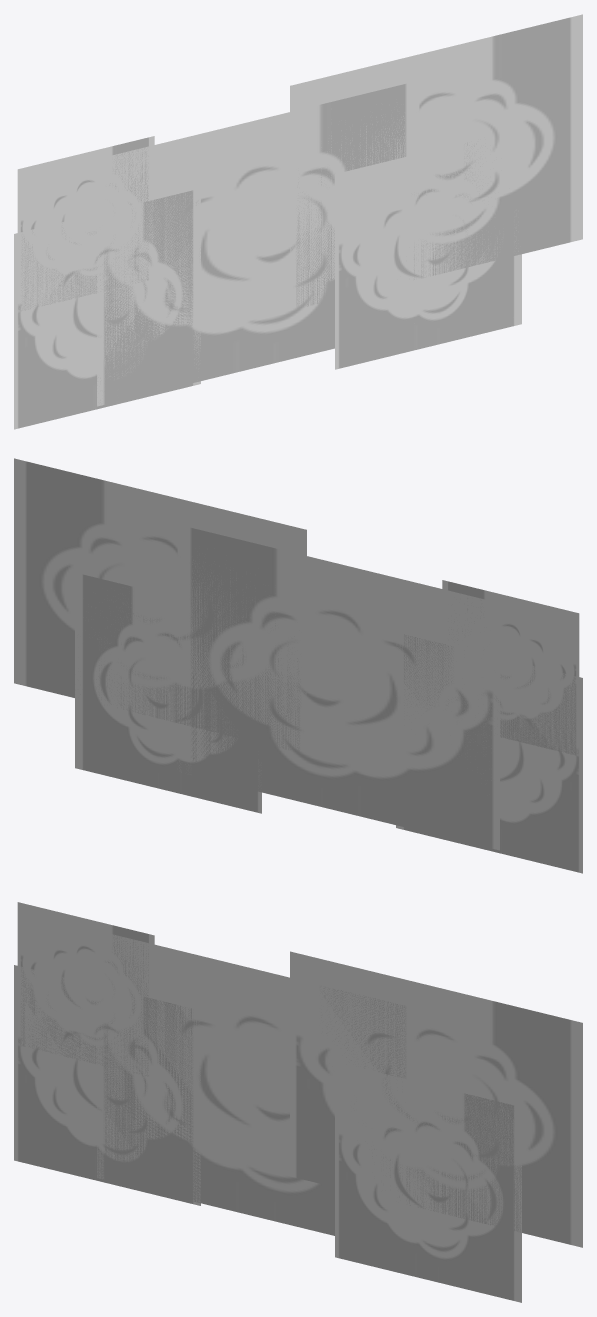
The model's file is puff_balk_110.glb.
3 renders of one model, top to bottom at view 1: azimuth 30°, elevation 25°; view 2: azimuth 150°, elevation 25°; view 3: azimuth 330°, elevation 25°, orthographic.
Visible parts, largest first — view 1: puff4_3, puff4_2, puff4_1, puff4, puff4_4; view 2: puff4_3, puff4_2, puff4, puff4_1, puff4_4; view 3: puff4_2, puff4_3, puff4, puff4_1, puff4_4.
Boxes of the visible parts, x1=… form: puff4_3: x1=97, y1=80, x2=419, y2=406; puff4_2: x1=290, y1=14, x2=582, y2=309; puff4_1: x1=14, y1=188, x2=200, y2=429; puff4: x1=335, y1=142, x2=521, y2=369; puff4_4: x1=17, y1=136, x2=154, y2=311; puff4_3: x1=177, y1=524, x2=499, y2=850; puff4_2: x1=14, y1=458, x2=306, y2=752; puff4: x1=75, y1=572, x2=261, y2=813; puff4_1: x1=396, y1=633, x2=582, y2=873; puff4_4: x1=442, y1=580, x2=579, y2=755; puff4_2: x1=290, y1=951, x2=582, y2=1247; puff4_3: x1=97, y1=930, x2=419, y2=1235; puff4: x1=335, y1=1062, x2=521, y2=1302; puff4_1: x1=14, y1=965, x2=200, y2=1205; puff4_4: x1=17, y1=902, x2=154, y2=1078.
Size of the model in its own units: 63.09 by 31.25 by 1.81e-06.
1 material, 1 textured.
